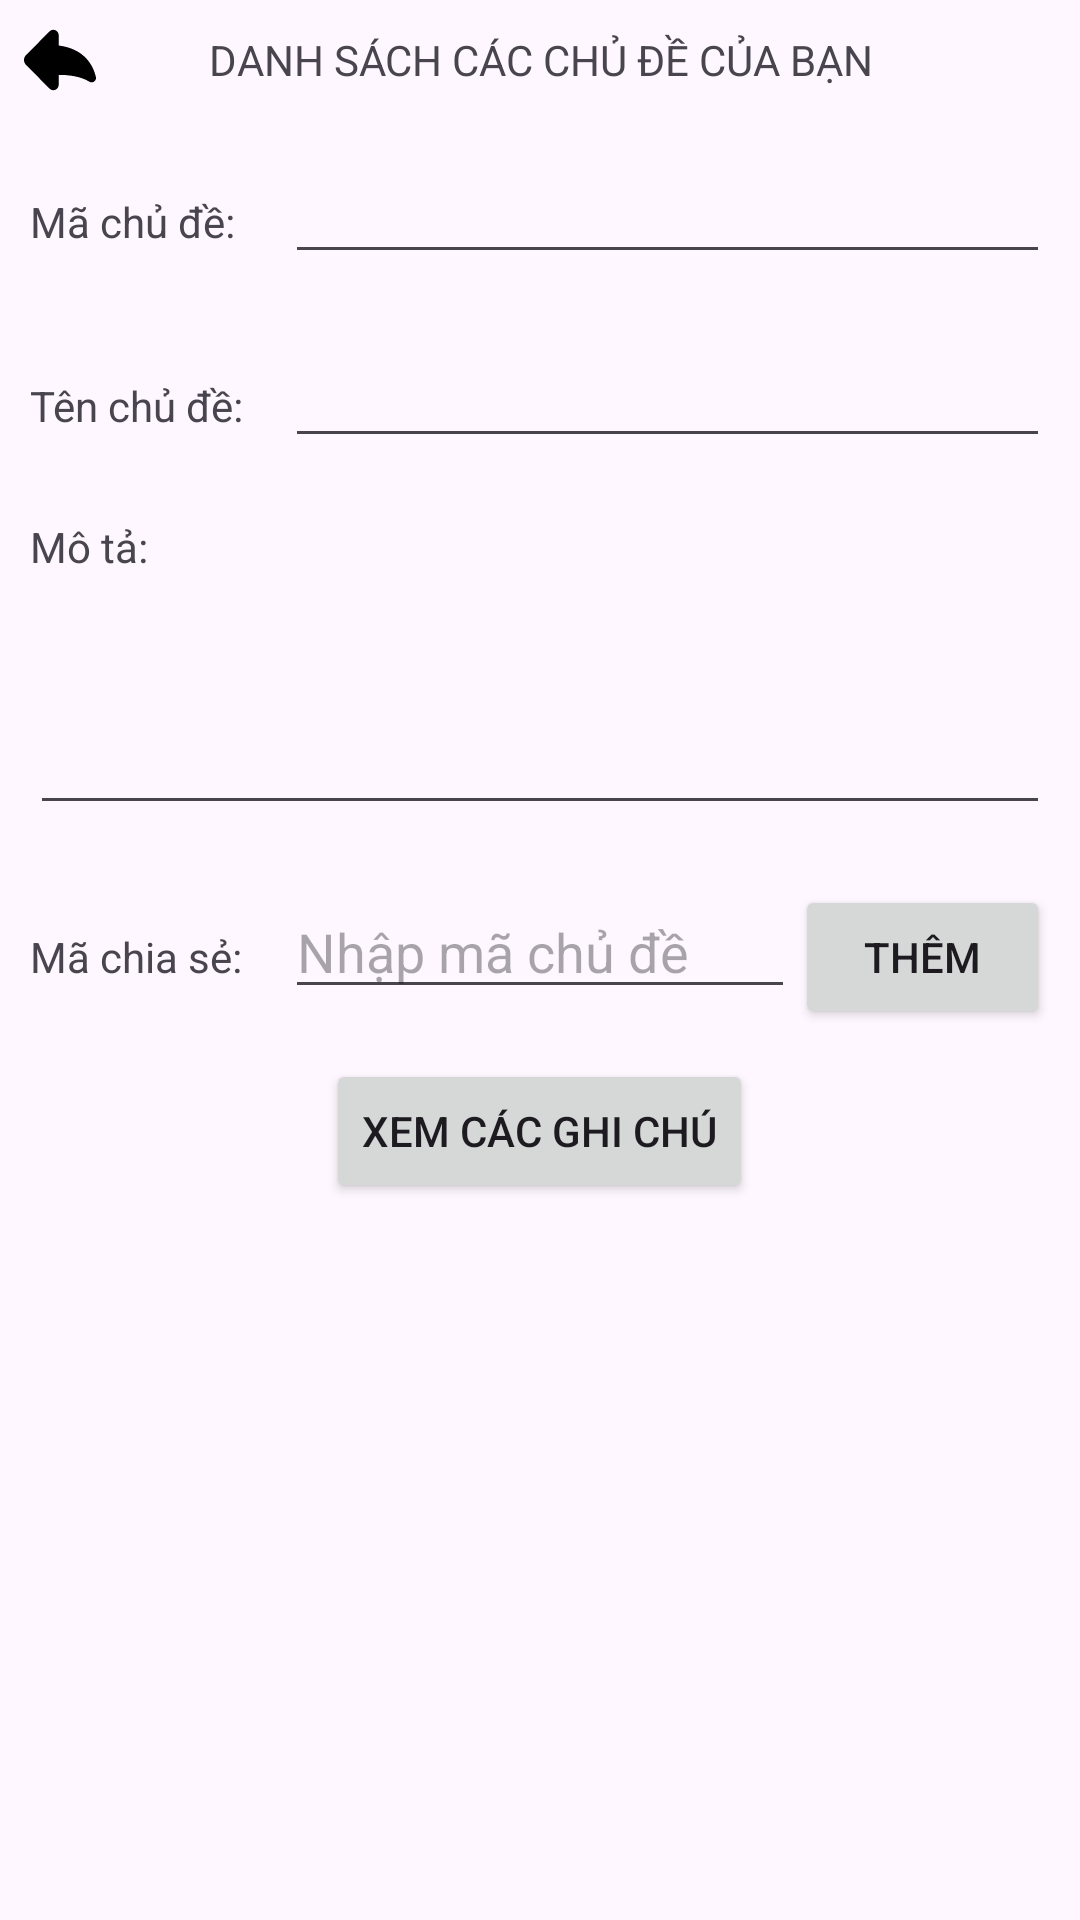

Icons on this 1080×1920 Android screen, each with the point to tap as (x,y):
back arrow: (60,60)
